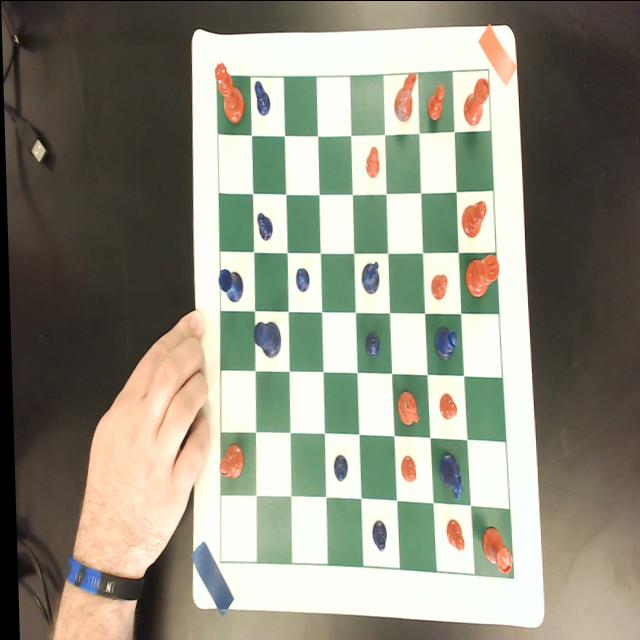B: (430, 326, 455, 360)
K: (250, 321, 279, 358)
N: (434, 451, 460, 501), (359, 259, 378, 295)
P: (251, 79, 269, 115), (367, 518, 384, 552), (254, 210, 271, 240), (329, 452, 345, 482), (362, 330, 377, 358), (293, 266, 307, 292)
R: (215, 266, 240, 300)
b: (459, 200, 486, 240), (216, 442, 241, 479)
cb: (215, 68, 509, 577)
k: (462, 252, 497, 298)
n: (392, 72, 418, 122), (393, 388, 416, 428)
p: (424, 82, 445, 122), (441, 517, 462, 552), (362, 146, 379, 180), (435, 392, 455, 420), (396, 454, 414, 482), (427, 274, 446, 300)
q: (213, 62, 244, 124)
r: (476, 524, 509, 576), (460, 75, 489, 125)
